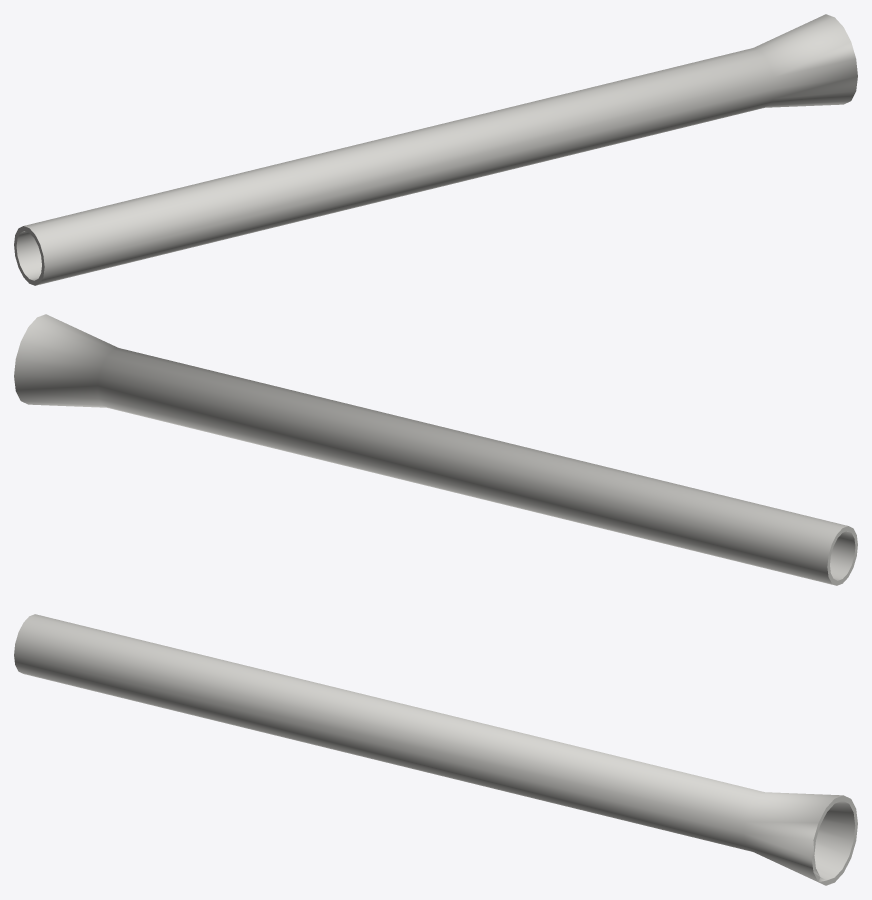
File: tool_Pipe_bender_spring_3.8.glb
3 renders of one model, top to bottom at view 1: azimuth 30°, elevation 25°; view 2: azimuth 150°, elevation 25°; view 3: azimuth 330°, elevation 25°, orthographic.
Visible parts, largest first — view 1: tool_Pipe_bender_spring_3.8; view 2: tool_Pipe_bender_spring_3.8; view 3: tool_Pipe_bender_spring_3.8.
Boxes of the visible parts, x1,y1,x2,y2 form: tool_Pipe_bender_spring_3.8: (14, 14, 857, 285); tool_Pipe_bender_spring_3.8: (14, 314, 857, 585); tool_Pipe_bender_spring_3.8: (14, 614, 857, 885).
Bounding box in the file's own units: 0.1857 × 0.0185 × 0.0185.
Materials: 1 (1 with a texture image).
